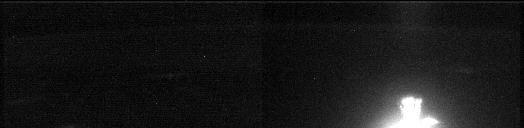positive: (396, 93, 424, 121)
